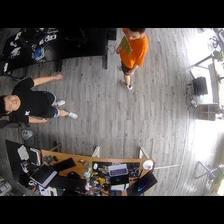normal: (1, 74, 81, 124), (114, 29, 148, 90)
